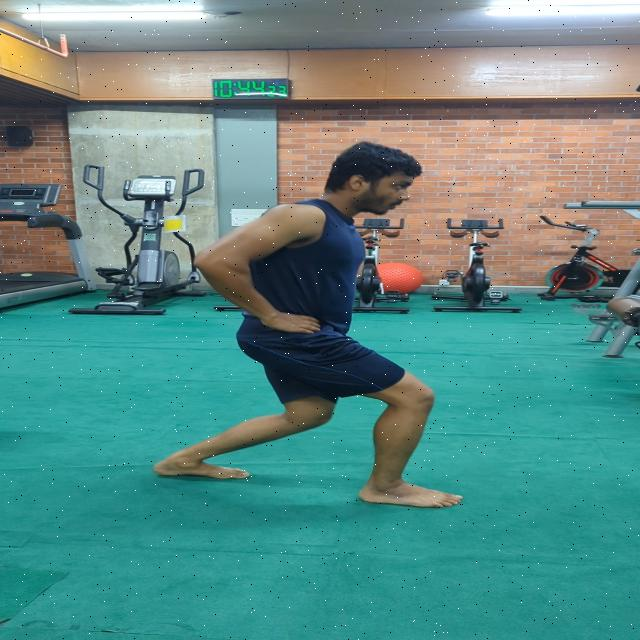Normal_Lunges: (137, 131, 493, 513)
